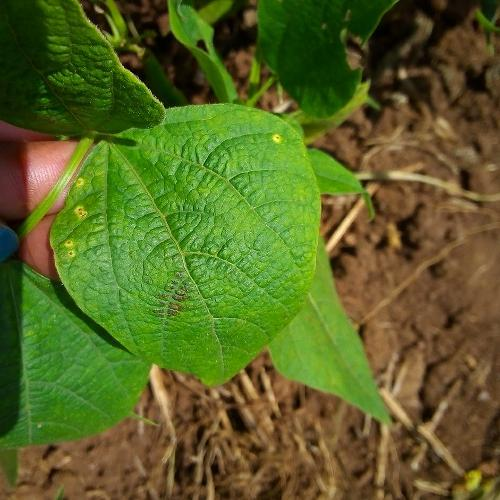hawar: (155, 272, 189, 326)
mozaik: (197, 168, 307, 322)
